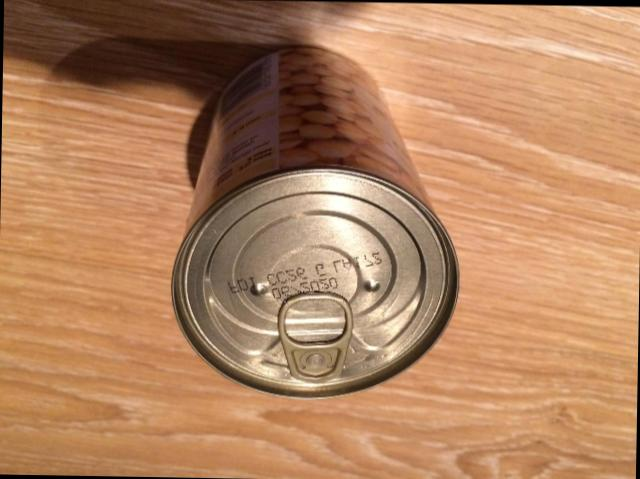metal: (172, 47, 458, 397)
